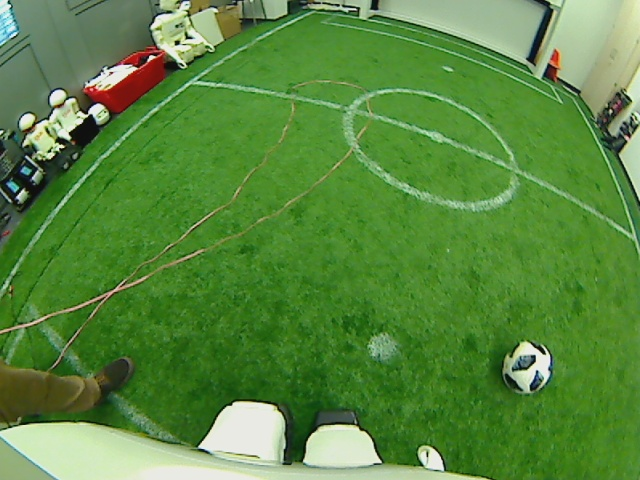ball: (500, 339, 556, 396)
